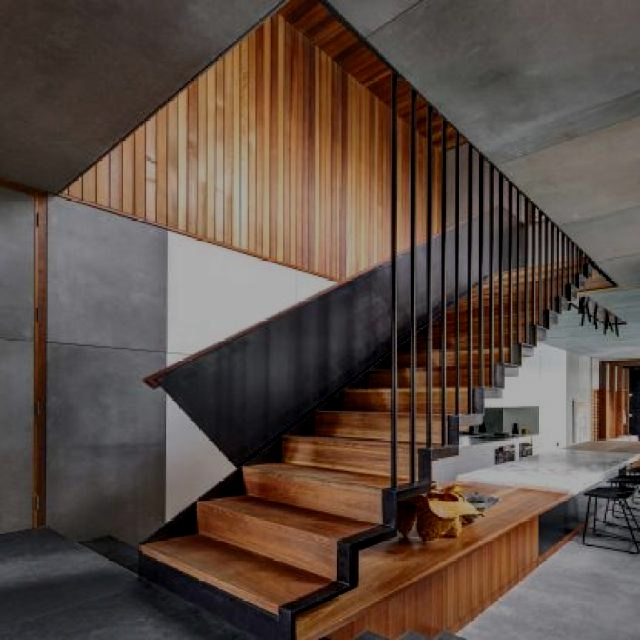stair: (85, 245, 612, 633)
